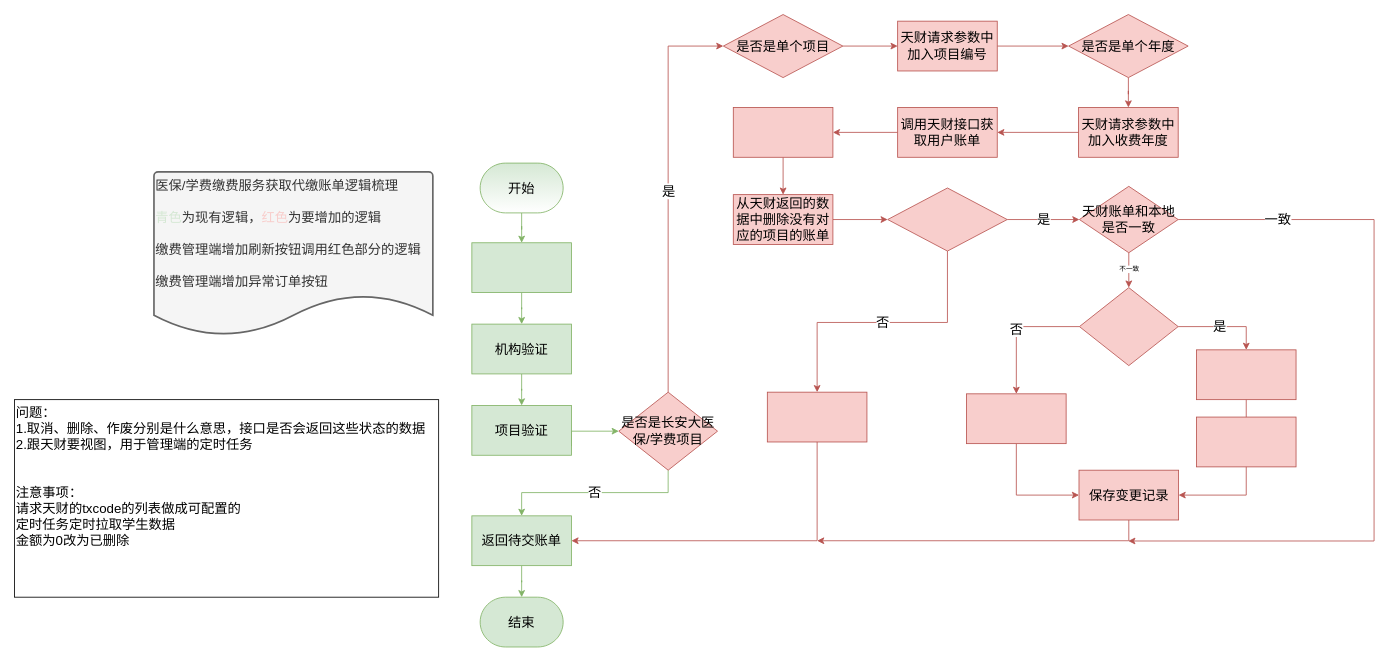
This 1395x662 diagram has some shape labels left out. Each missing label, with the centre of its shape:
保存异常订单: the point at 1246,374
保存账单: the point at 817,416
判断本地是否存在该账单: the point at 947,219
天财实交金额比本地少: the point at 1128,326
更新本地金额: the point at 1016,418
更新除实缴外的其他金额: the point at 1246,441
查询本地项目和天财项目对应关系: the point at 782,132
请求参数验证: the point at 521,267
